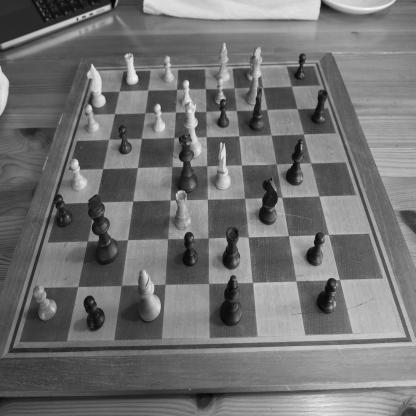black-bishop: (220, 275, 242, 326), (286, 138, 304, 186)
black-king: (88, 194, 118, 265)
black-knight: (259, 177, 278, 225), (250, 86, 265, 132)
black-pawn: (83, 294, 105, 332), (317, 277, 338, 313), (54, 193, 73, 229), (307, 232, 325, 266), (182, 232, 198, 268), (118, 125, 132, 155), (217, 98, 230, 129), (295, 52, 308, 80)
black-queen: (178, 133, 198, 194)
black-rook: (222, 226, 240, 270), (311, 89, 328, 124)
white-bishop: (138, 268, 161, 322), (216, 42, 230, 83)
white-king: (246, 46, 262, 106)
white-knight: (87, 63, 106, 108), (214, 142, 231, 191)
white-pawn: (32, 284, 57, 321), (70, 158, 88, 192), (84, 104, 100, 134), (153, 103, 165, 133), (246, 54, 259, 81), (162, 55, 174, 83), (214, 77, 226, 105), (181, 80, 192, 108)
white-queen: (183, 102, 202, 160)
white-rook: (174, 190, 192, 230), (124, 52, 139, 86)
